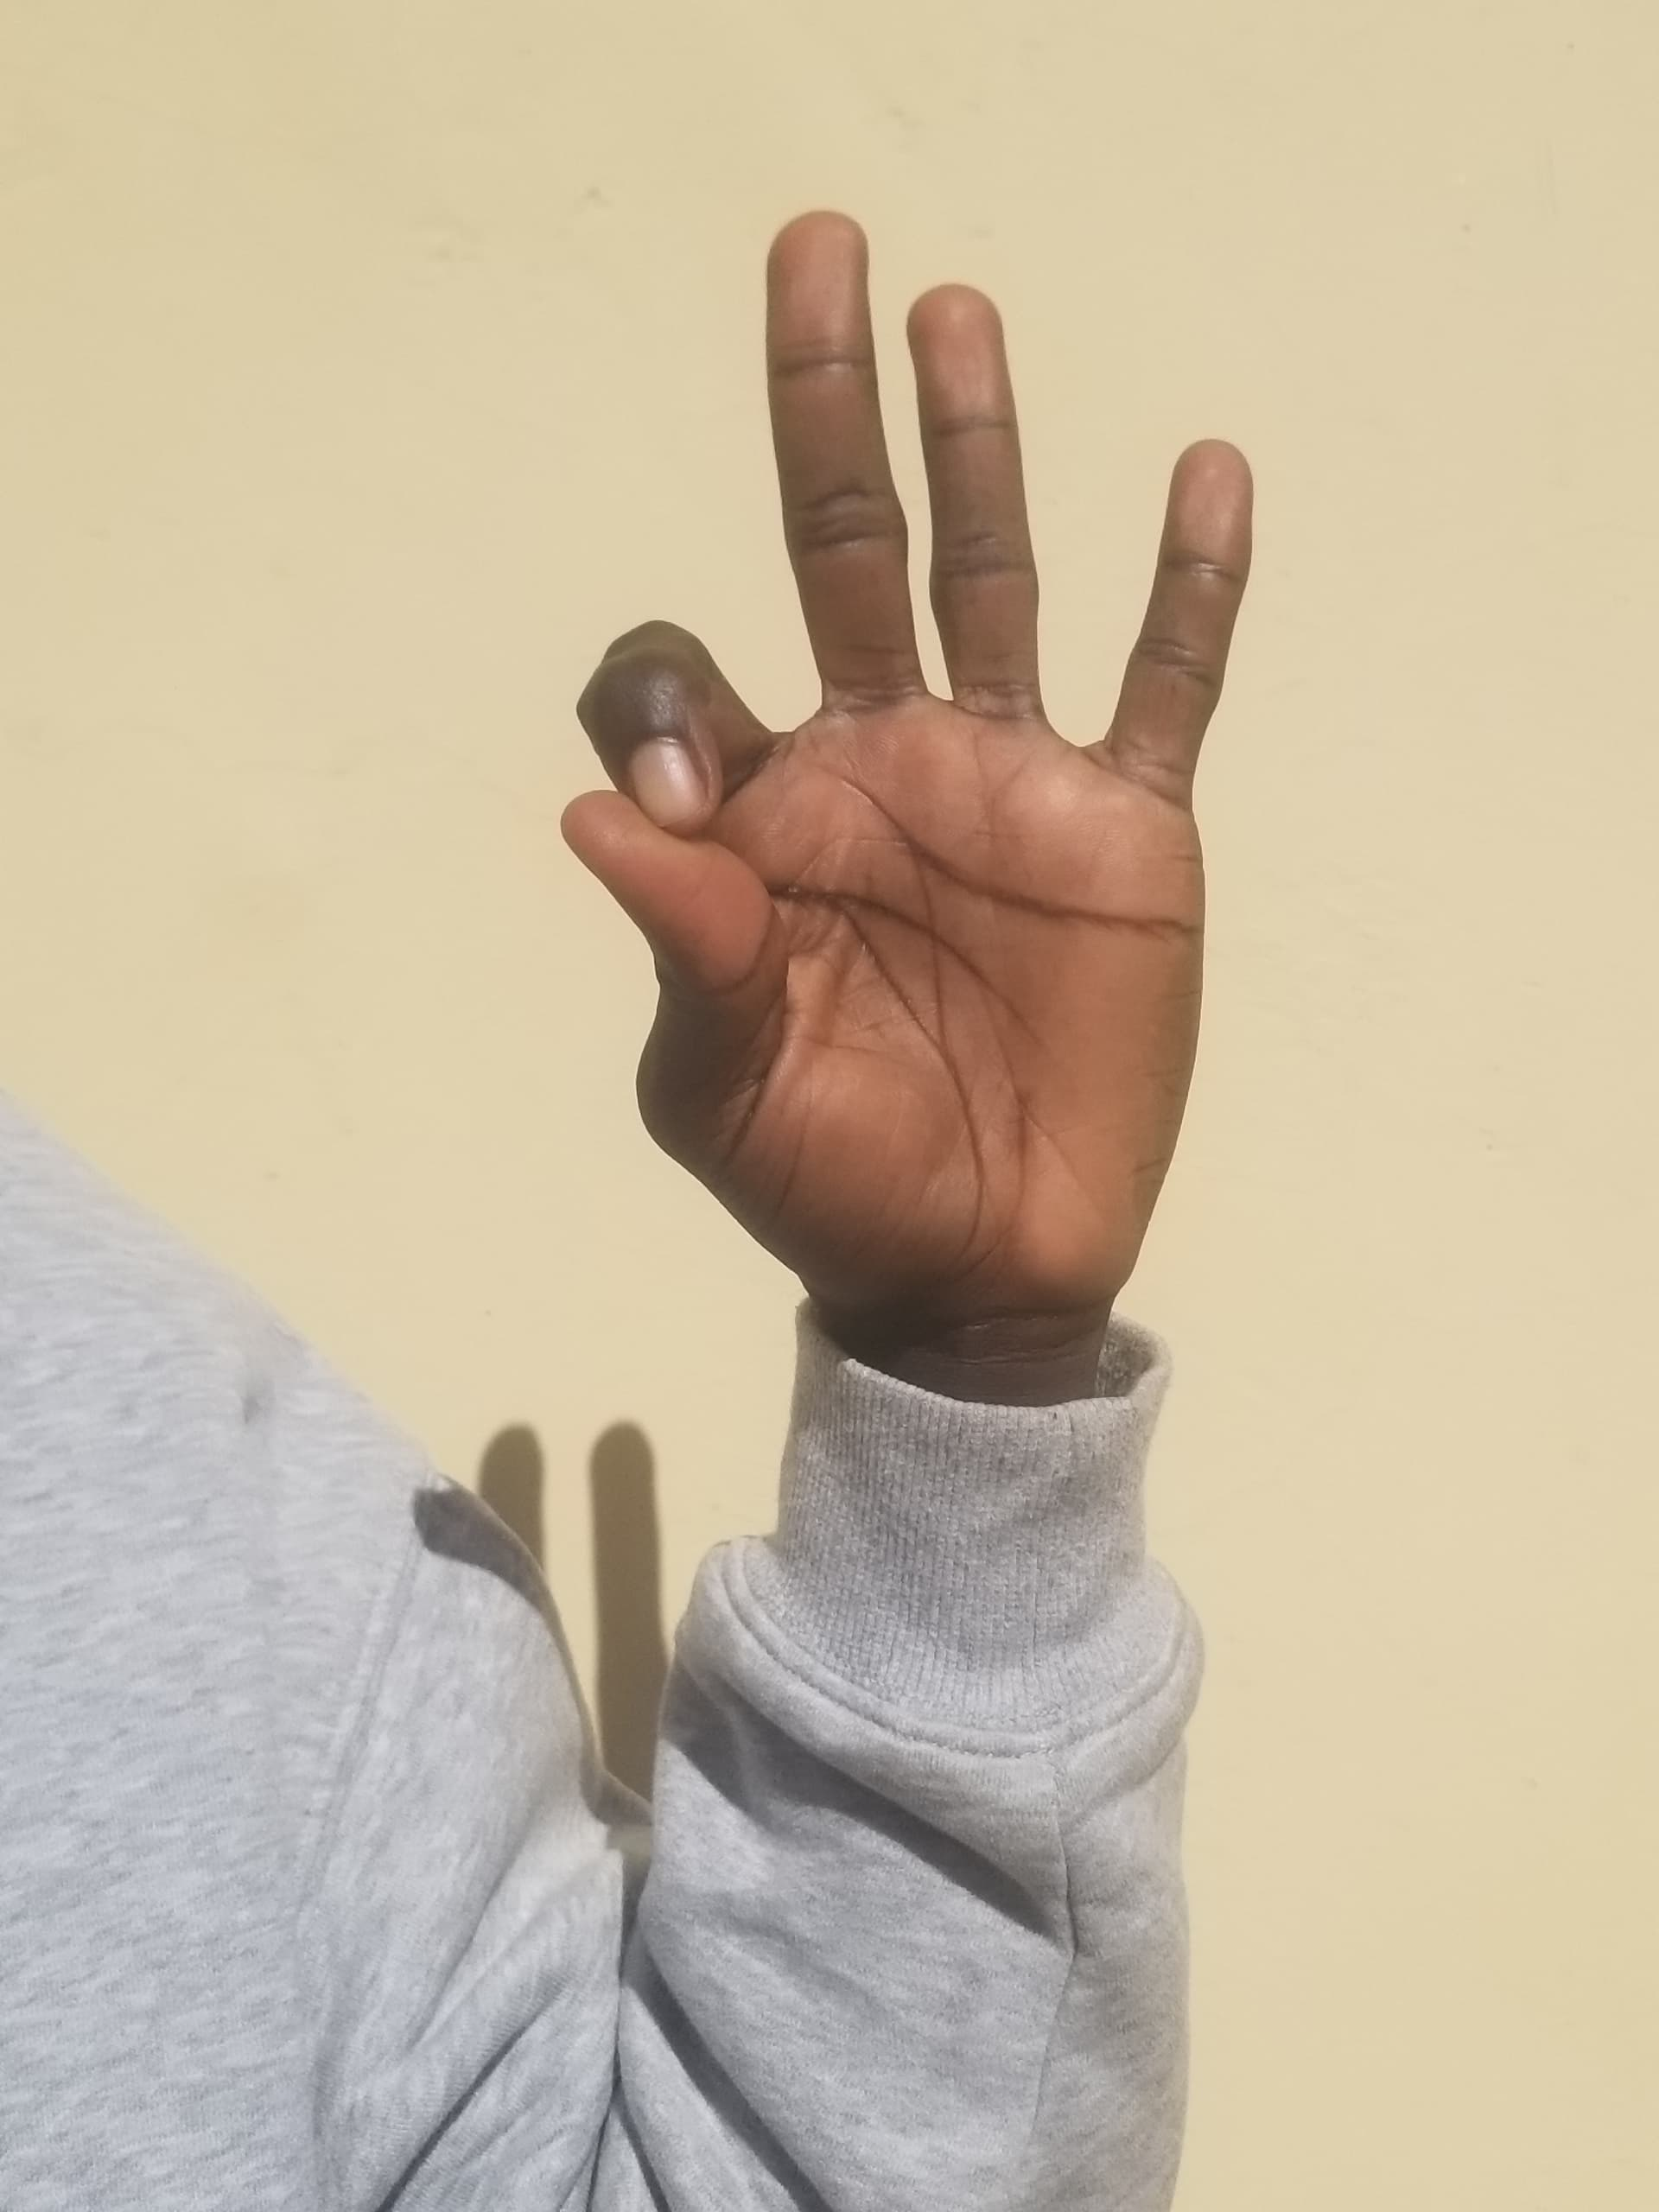okay: (490, 155, 1314, 1447)
